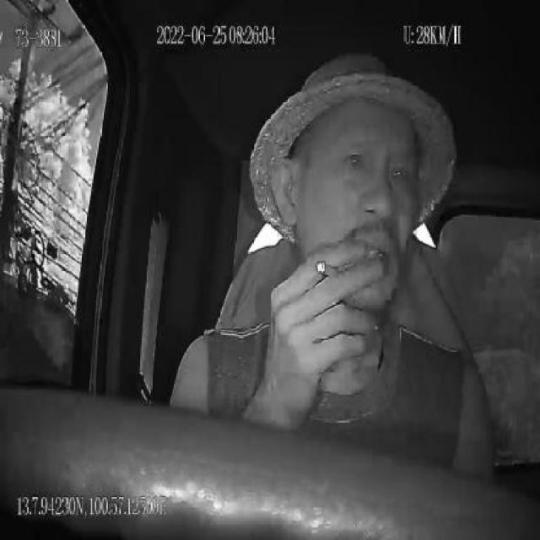smoking: (315, 256, 346, 279)
